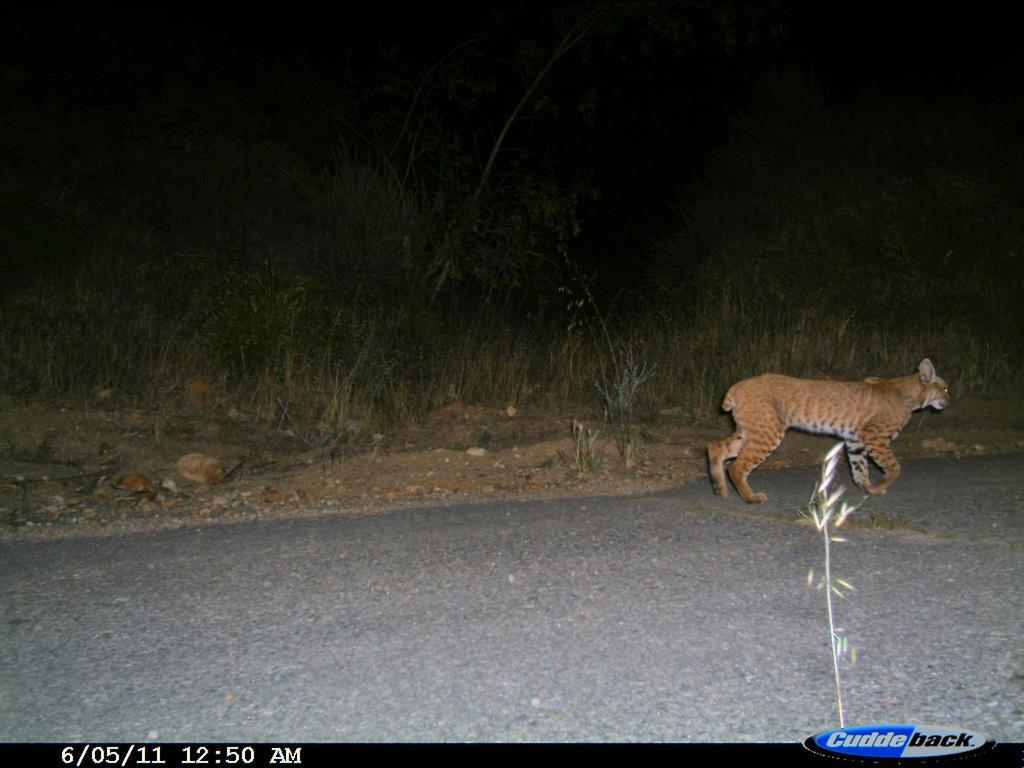bobcat: (703, 351, 959, 523)
